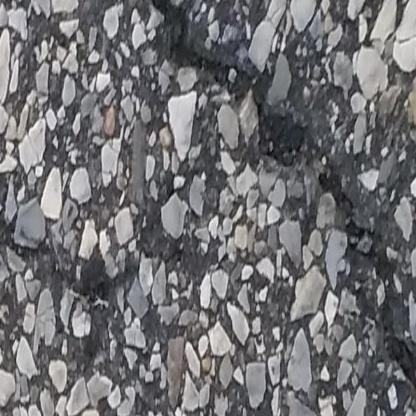Cracks: (127, 0, 416, 416), (0, 213, 143, 364)
